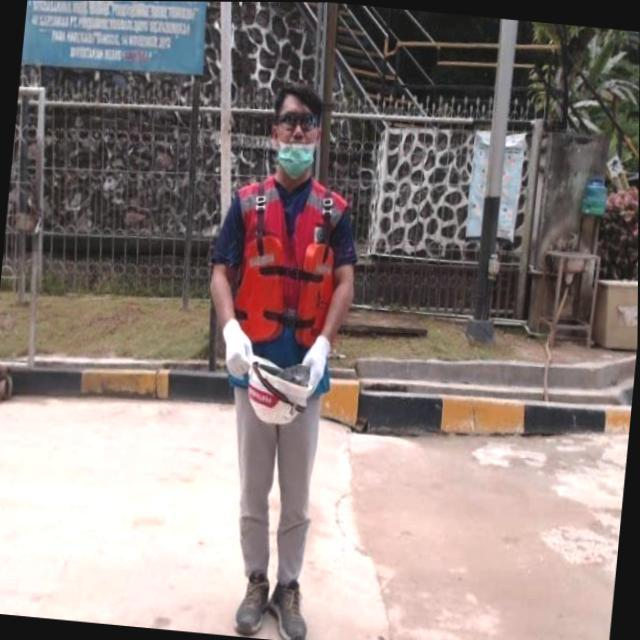goggles_on: (273, 110, 325, 137)
